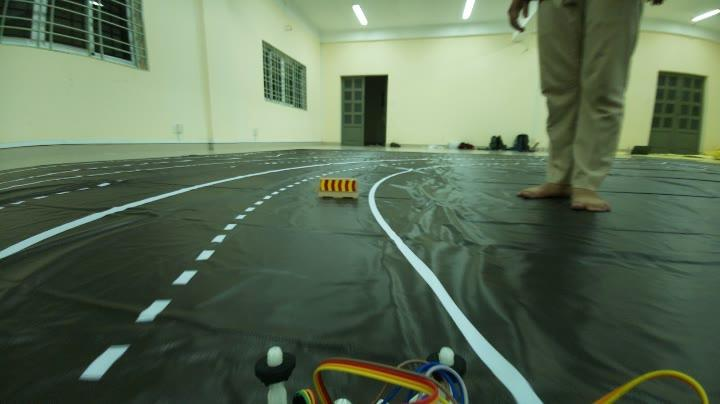roadblock: (314, 174, 368, 202)
